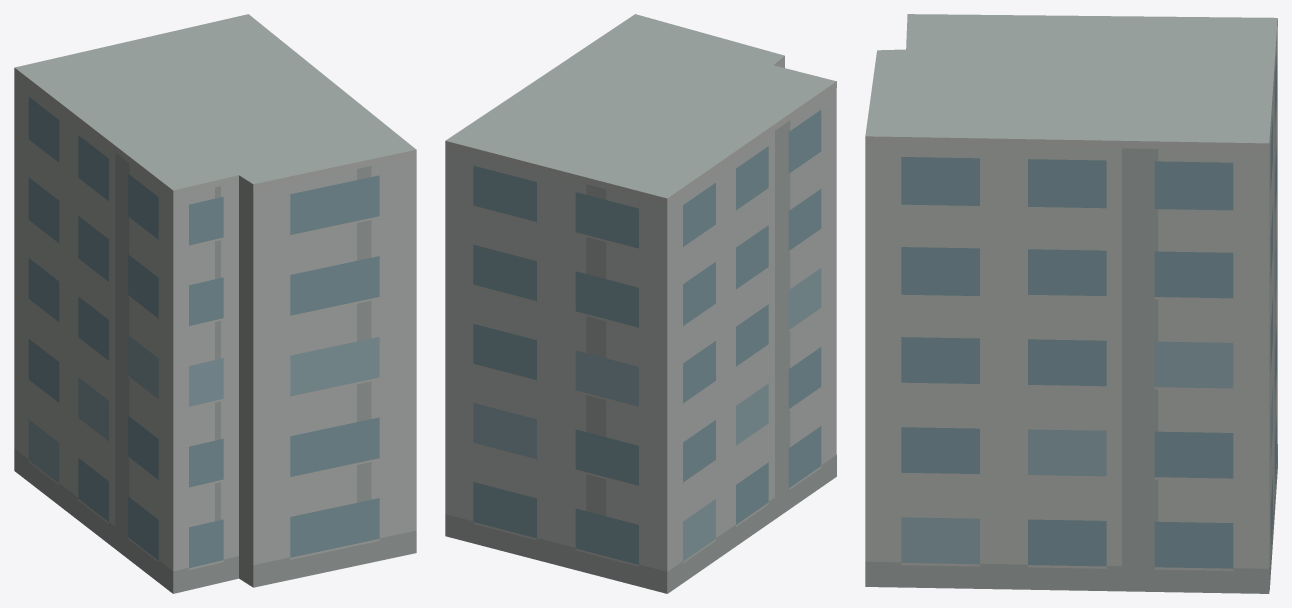
The model's file is survey-upis-32817148.glb.
3 views of the same model, side by side, from view 1: azimuth 30°, elevation 25°; view 2: azimuth 150°, elevation 25°; view 3: azimuth 270°, elevation 25° (orthographic). The views are drawn at different scales.
Visible parts, largest first — view 1: survey-upis-32817148.tmp; view 2: survey-upis-32817148.tmp; view 3: survey-upis-32817148.tmp.
Boxes of the visible parts, box(x1,y1,x2,y2) form: survey-upis-32817148.tmp: box(14, 14, 416, 593); survey-upis-32817148.tmp: box(445, 14, 836, 593); survey-upis-32817148.tmp: box(865, 14, 1277, 593).
Bounding box in the file's own units: 9 × 14.6 × 12.12.
